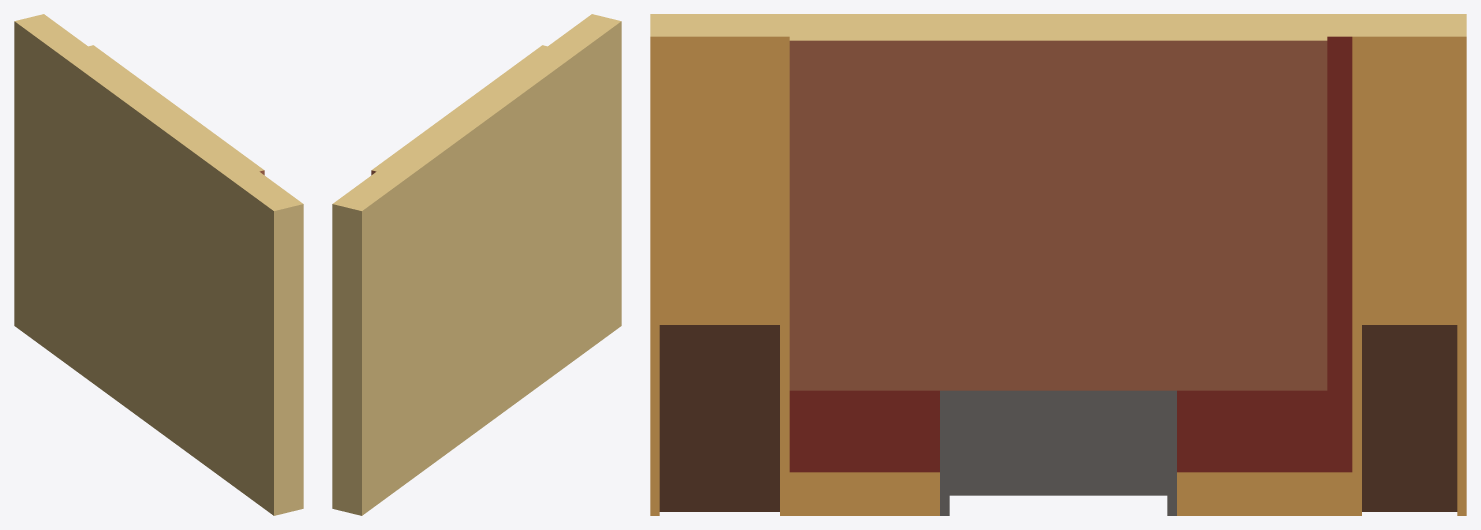
File: GrandChambre_Mur03.fbx
3 renders of one model, left to right at view 1: azimuth 30°, elevation 25°; view 2: azimuth 150°, elevation 25°; view 3: azimuth 270°, elevation 25°, orthographic. The views are drawn at different scales.
Parts seen in each view (by area): view 1: Mur03; view 2: Mur03; view 3: Mur03.
Boxes of the visible parts, <box> form: Mur03: <box>14,14,303,515</box>; Mur03: <box>332,14,621,515</box>; Mur03: <box>650,14,1466,515</box>.
Size of the model in its own units: 0.7113 by 5.94 by 9.18.
